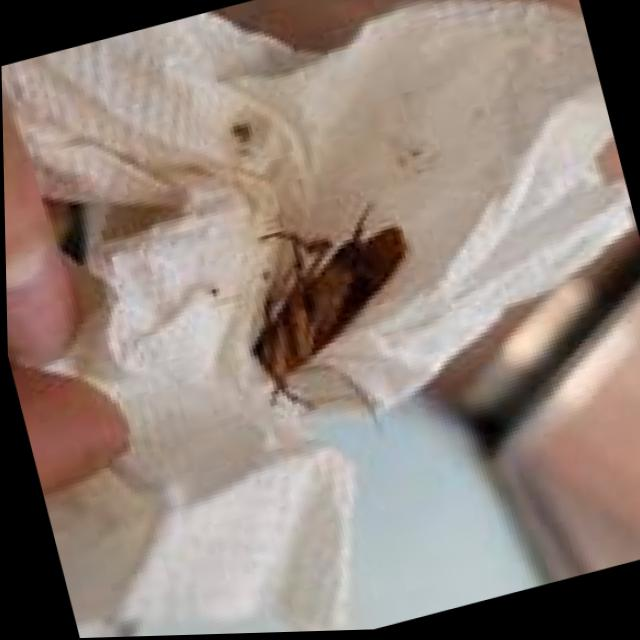Cockroach: (156, 151, 473, 484)
